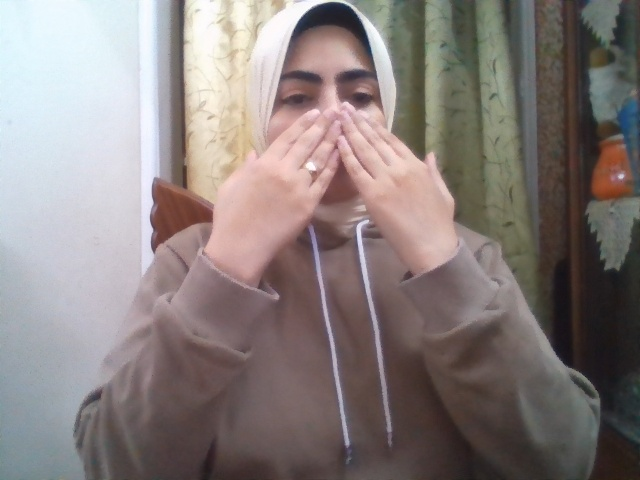thanks: (214, 102, 456, 254)
